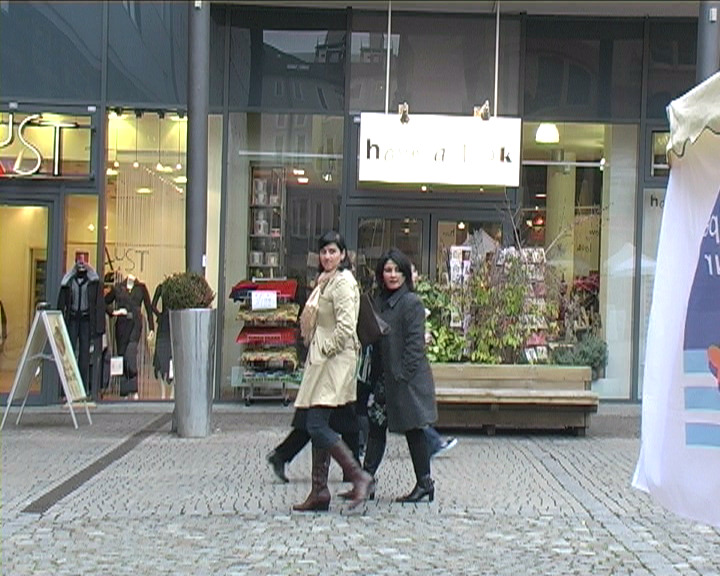deflection: (361, 243, 427, 357), (306, 230, 360, 334)
